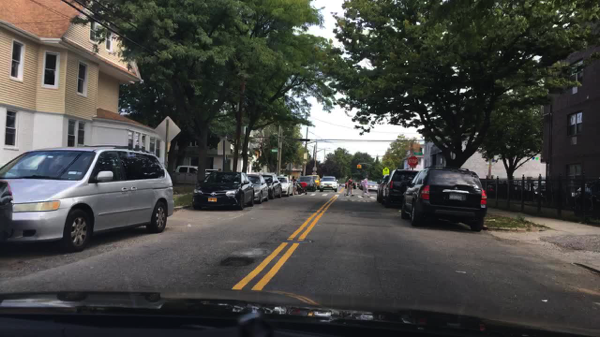car: (1, 145, 176, 251), (400, 165, 488, 232), (190, 170, 253, 210), (383, 169, 420, 206), (487, 182, 544, 204), (0, 178, 15, 247), (566, 180, 599, 211), (247, 175, 271, 204), (264, 172, 283, 198), (375, 176, 386, 204), (279, 176, 294, 196), (320, 177, 338, 192), (298, 175, 314, 190), (176, 165, 199, 175), (310, 174, 321, 191), (367, 182, 379, 193), (205, 169, 222, 173), (355, 182, 360, 188)
person: (360, 178, 370, 199), (345, 176, 353, 196)
traffic light: (357, 164, 361, 169)
traffic sign: (406, 156, 417, 167), (381, 166, 389, 177), (412, 152, 424, 158)
